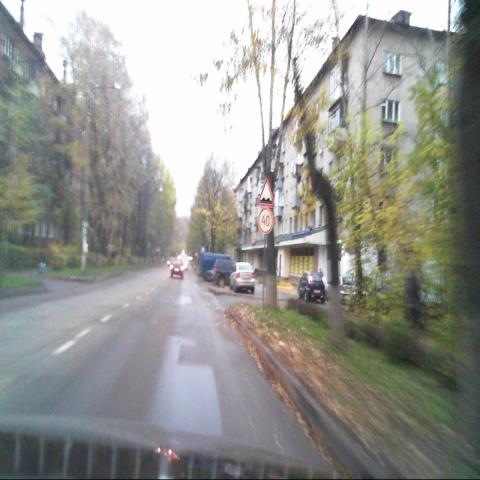1_16: (258, 178, 274, 207)
3_24: (258, 207, 274, 234)
